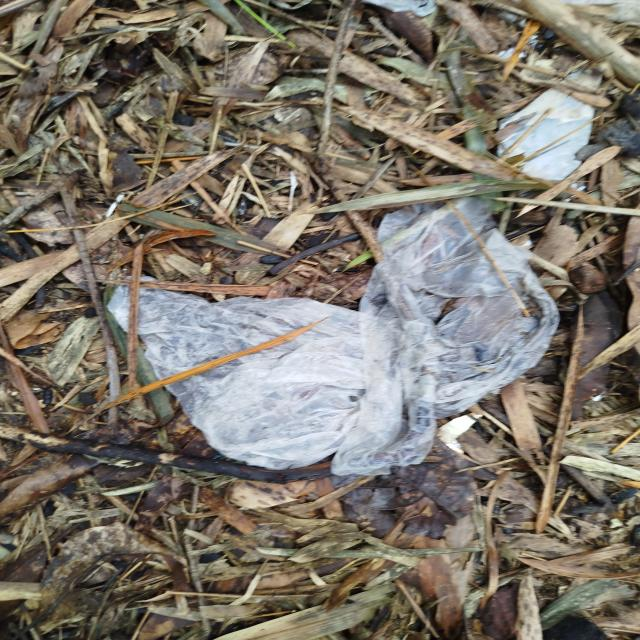residual: (83, 182, 566, 488)
